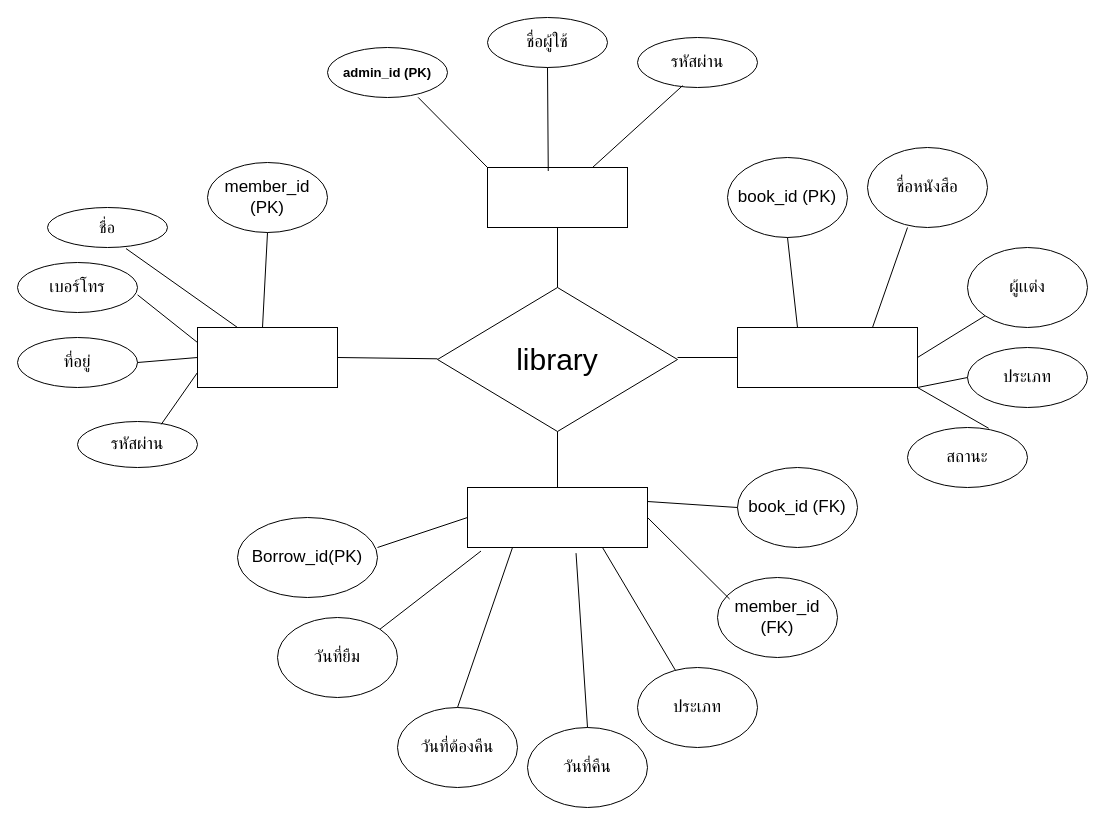
Image size: 1105x825. Some labels were removed from this diagram. Here are the shapes that lost their labels. From the top down, the centre of each, then its label:
point (557, 197): admin
point (267, 357): member
point (827, 357): book
point (557, 517): Borrow
